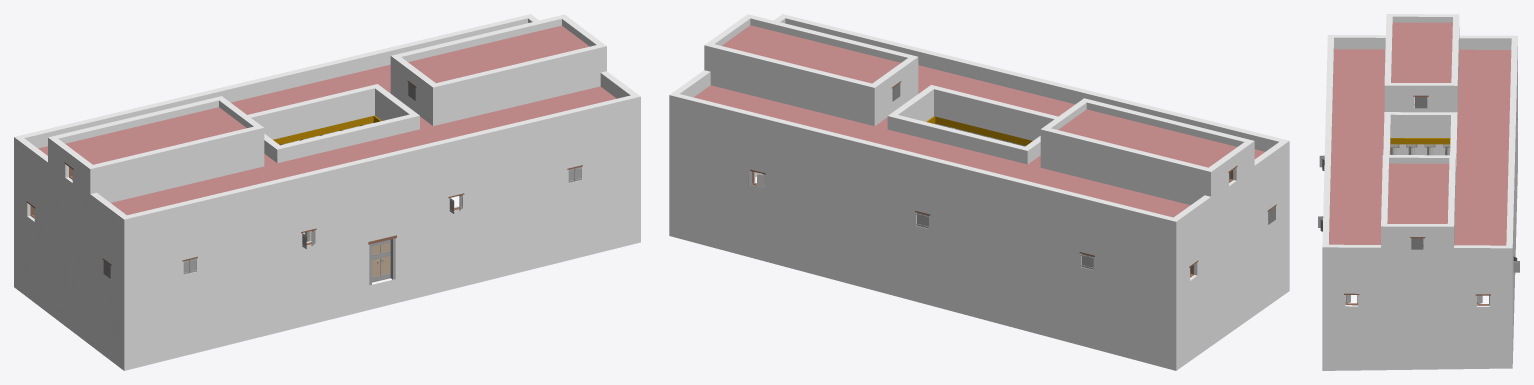
The model's file is LOD_Block_3_33.glb.
The picture shows the model from 3 angles, left to right: view 1: azimuth 30°, elevation 25°; view 2: azimuth 150°, elevation 25°; view 3: azimuth 270°, elevation 25°; orthographic projection. The views are drawn at different scales.
Parts seen in each view (by area): view 1: _1.4348; view 2: _1.4348; view 3: _1.4348.
Boxes of the visible parts, x1=… form: _1.4348: x1=14, y1=14, x2=640, y2=370; _1.4348: x1=669, y1=14, x2=1289, y2=370; _1.4348: x1=1318, y1=14, x2=1519, y2=370.
Bounding box in the file's own units: 39.64 × 12.95 × 15.86.
Materials: 21 (2 with a texture image).
